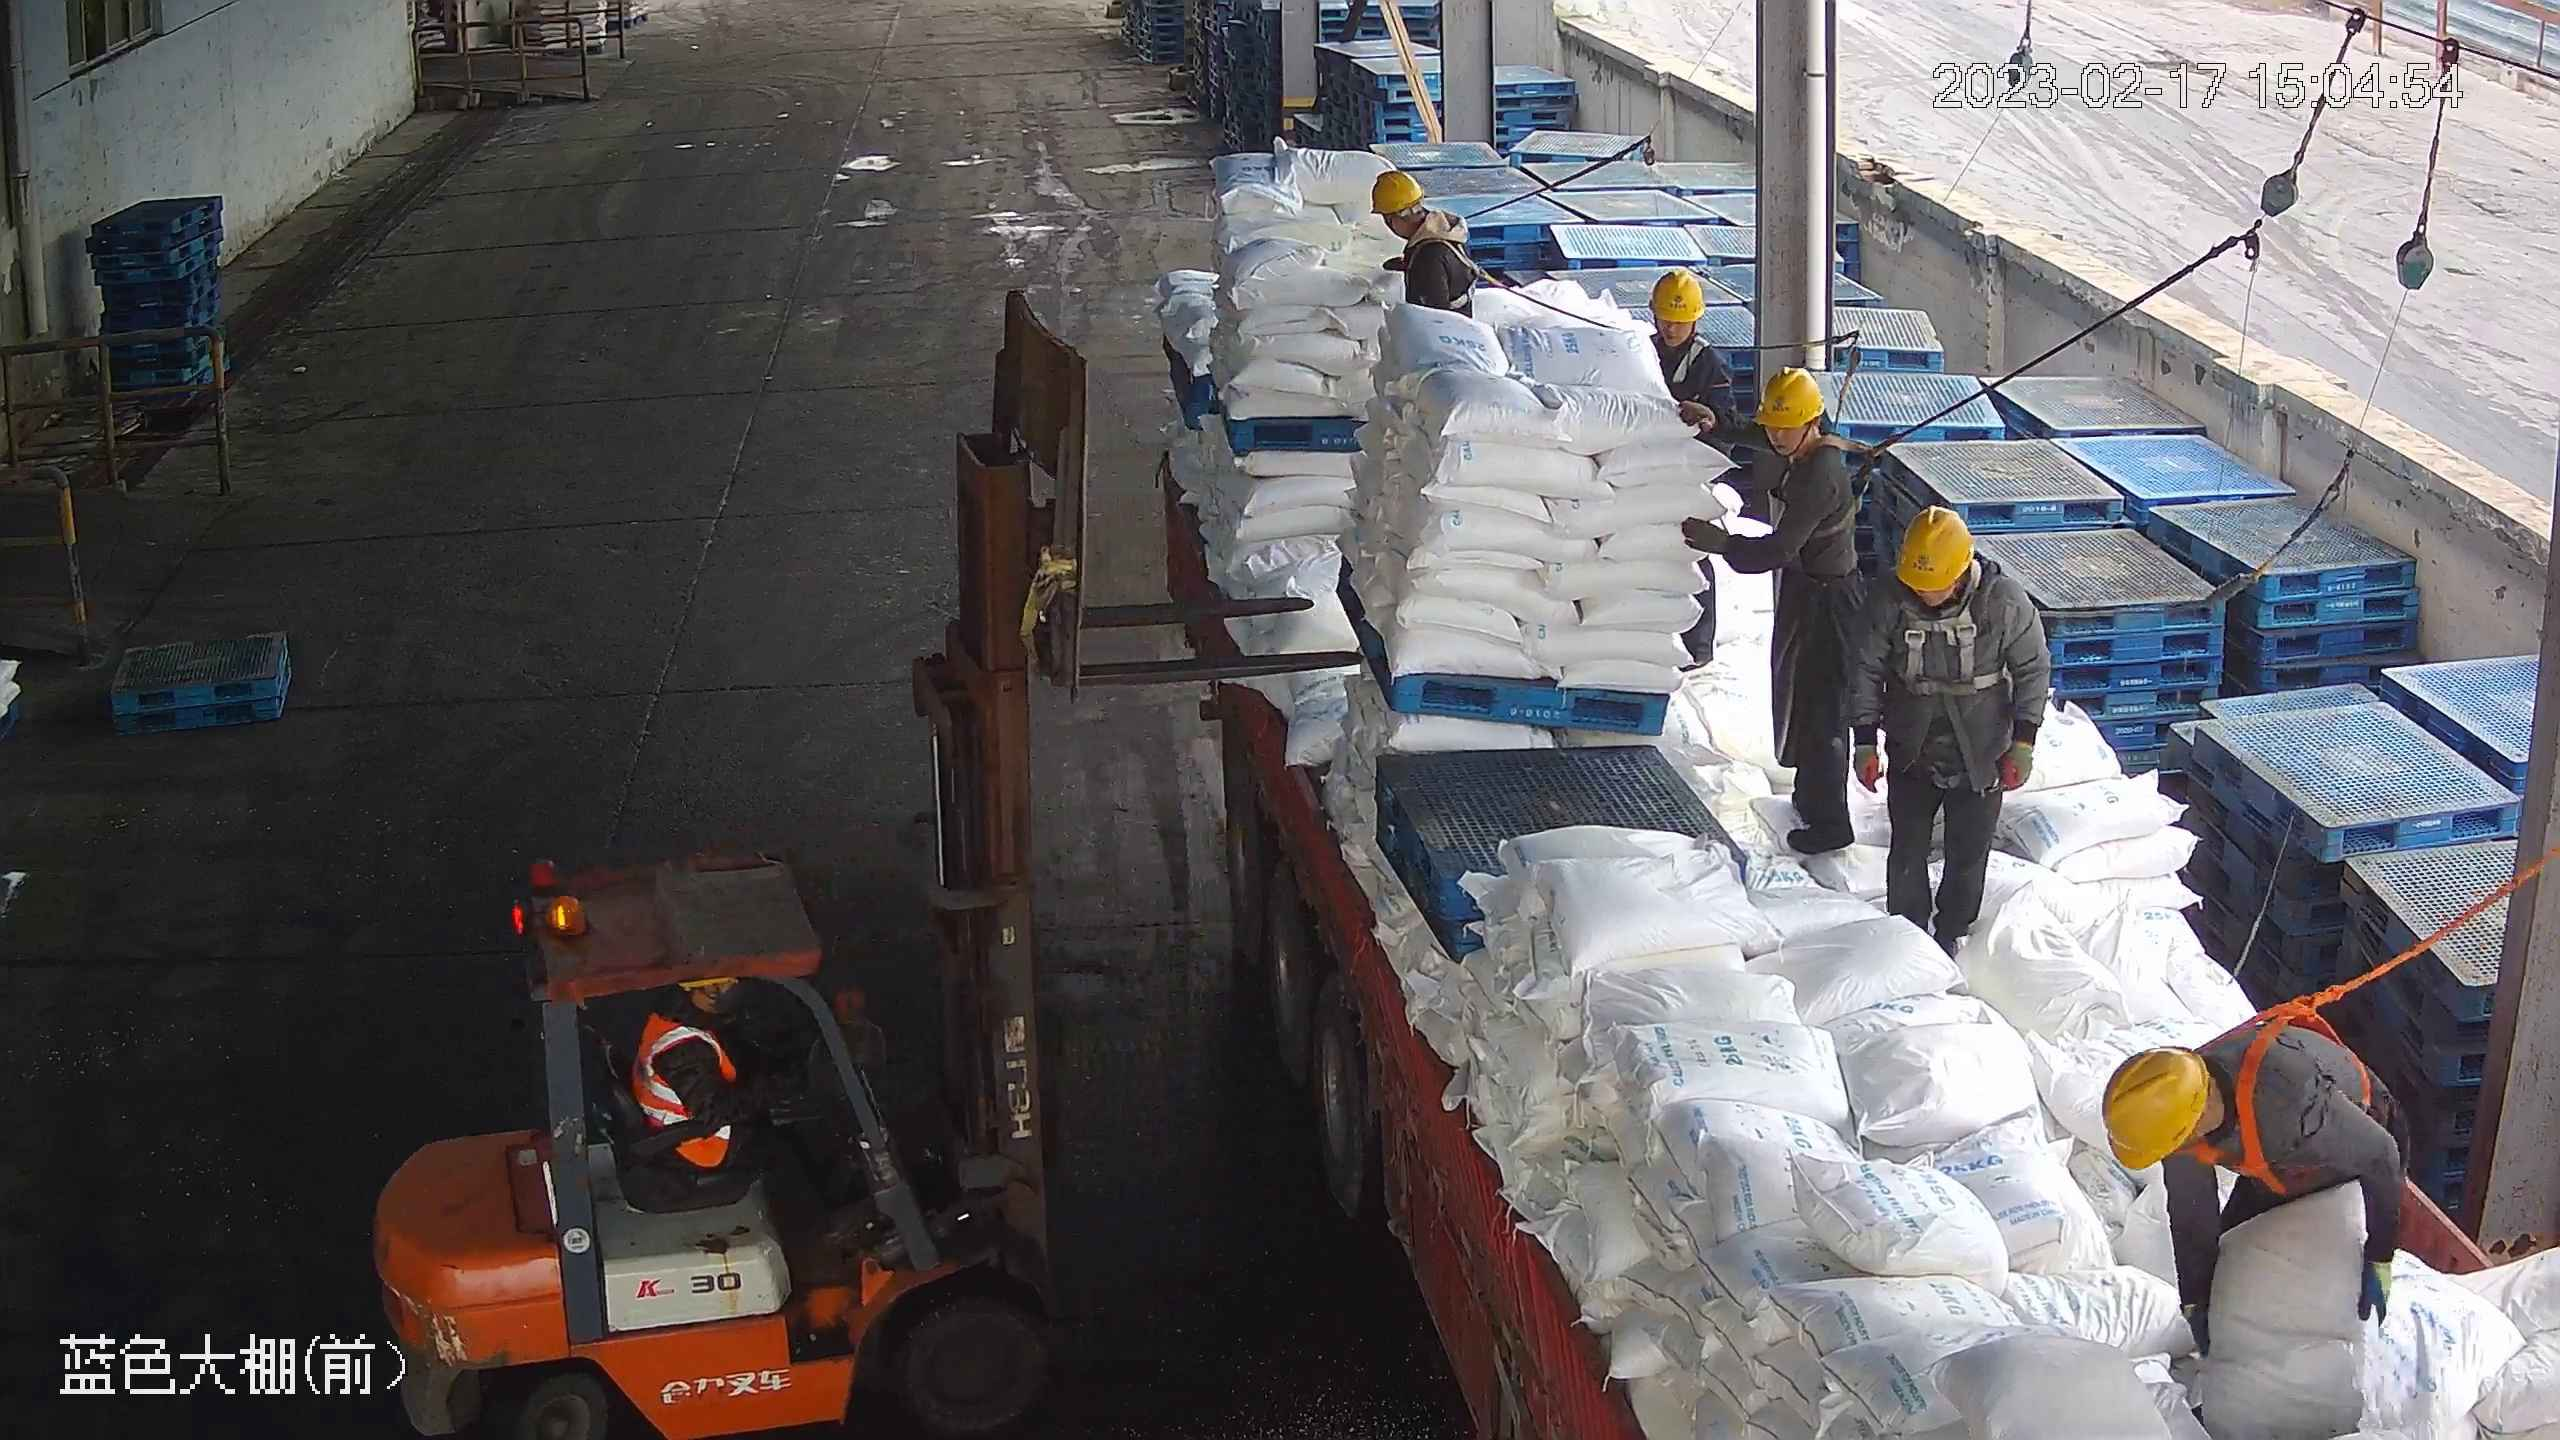belt: (2199, 983, 2365, 1198), (1889, 564, 2011, 696), (1768, 432, 1882, 543), (1407, 210, 1482, 288), (1653, 328, 1720, 394)
head: (2097, 1037, 2318, 1209), (1872, 503, 2033, 646), (1741, 365, 1857, 511), (1369, 168, 1472, 273)
helmet: (2101, 1045, 2212, 1171), (1894, 506, 1974, 591), (1752, 364, 1825, 429), (1644, 268, 1707, 325), (1367, 168, 1426, 214)
people: (2098, 1027, 2411, 1365), (1689, 359, 1869, 852), (1853, 503, 2049, 951), (621, 981, 866, 1250)
truck: (1134, 270, 2545, 1433)
